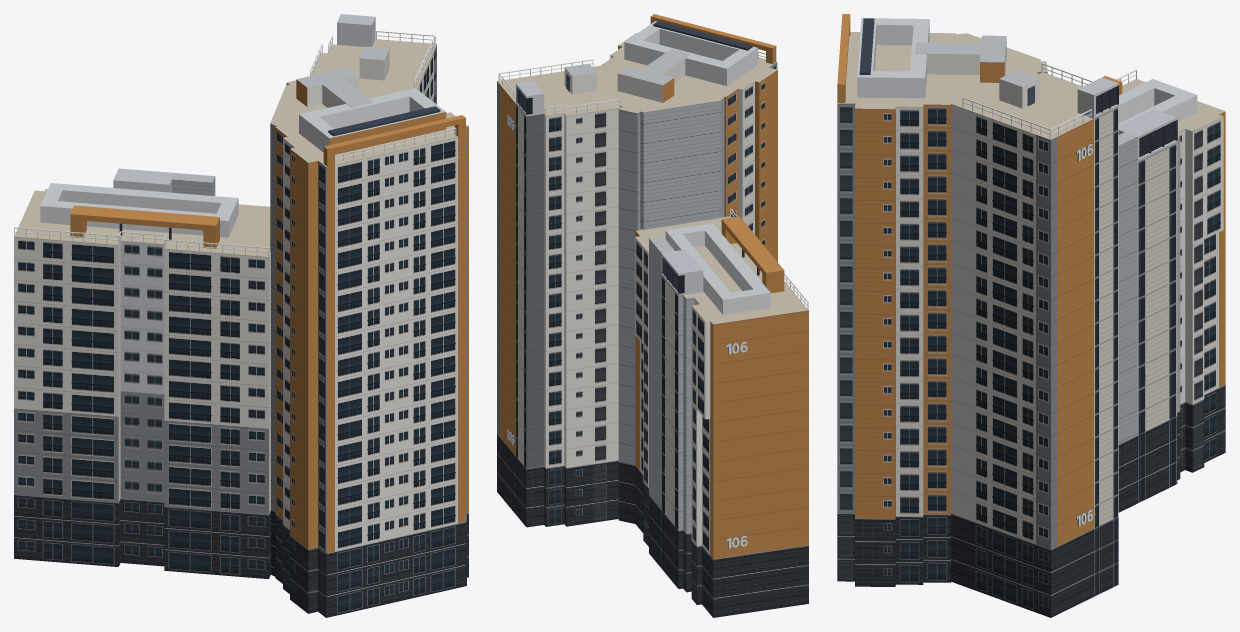
Rendered from place_금파힐106up.glb.
3 views of the same model, side by side, from view 1: azimuth 30°, elevation 25°; view 2: azimuth 150°, elevation 25°; view 3: azimuth 270°, elevation 25° (orthographic). The views are drawn at different scales.
Visible parts, largest first — view 1: WingC_South_21F, WingA_NW_15F, WingB_NE_21F, KumhoParkHills_106_UpperOnly; view 2: WingA_NW_15F, WingB_NE_21F, KumhoParkHills_106_UpperOnly, WingC_South_21F; view 3: WingB_NE_21F, WingC_South_21F, WingA_NW_15F, KumhoParkHills_106_UpperOnly.
Part boxes in pixels (<box>): WingC_South_21F: <box>275,67,468,617</box>; WingA_NW_15F: <box>14,168,270,578</box>; WingB_NE_21F: <box>310,14,436,104</box>; KumhoParkHills_106_UpperOnly: <box>270,80,396,576</box>; WingA_NW_15F: <box>635,208,808,617</box>; WingB_NE_21F: <box>497,59,630,527</box>; KumhoParkHills_106_UpperOnly: <box>604,68,728,523</box>; WingC_South_21F: <box>602,14,777,261</box>; WingB_NE_21F: <box>934,62,1118,617</box>; WingC_South_21F: <box>837,14,1006,586</box>; WingA_NW_15F: <box>1102,69,1225,512</box>; KumhoParkHills_106_UpperOnly: <box>909,33,1047,100</box>.
Bounding box in the file's own units: 49.42 × 58.4 × 40.99.
143 materials, 98 textured.
